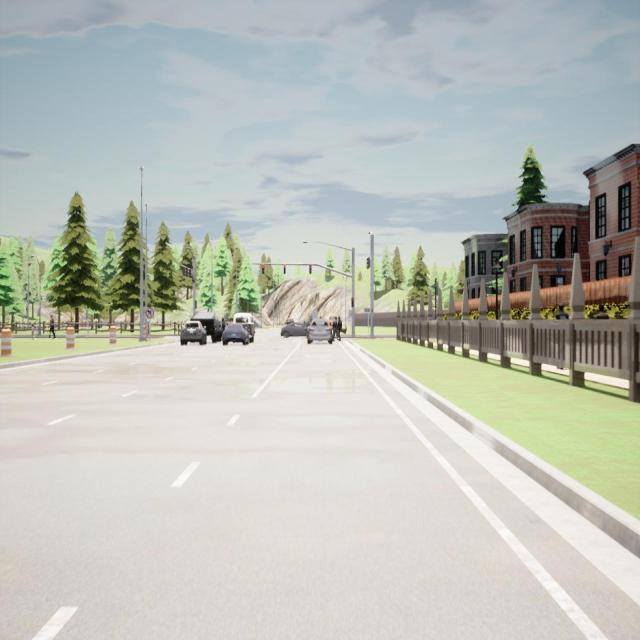Pedestrian: (554, 296, 569, 324), (590, 301, 610, 321), (49, 315, 56, 338), (332, 317, 337, 341), (338, 316, 342, 341), (220, 314, 226, 330)
Traffic_Signs: (144, 307, 154, 318), (312, 312, 318, 319), (364, 308, 373, 312)
Vehicle: (189, 311, 222, 344), (233, 312, 257, 344), (180, 320, 208, 347), (307, 318, 333, 344), (279, 320, 309, 339), (223, 324, 249, 345), (284, 317, 294, 323)
traffic_light: (366, 258, 370, 270), (283, 264, 286, 274), (351, 297, 354, 307), (195, 299, 198, 309), (309, 265, 312, 274), (182, 267, 185, 276), (189, 269, 192, 278), (262, 264, 264, 274), (186, 268, 188, 277)
